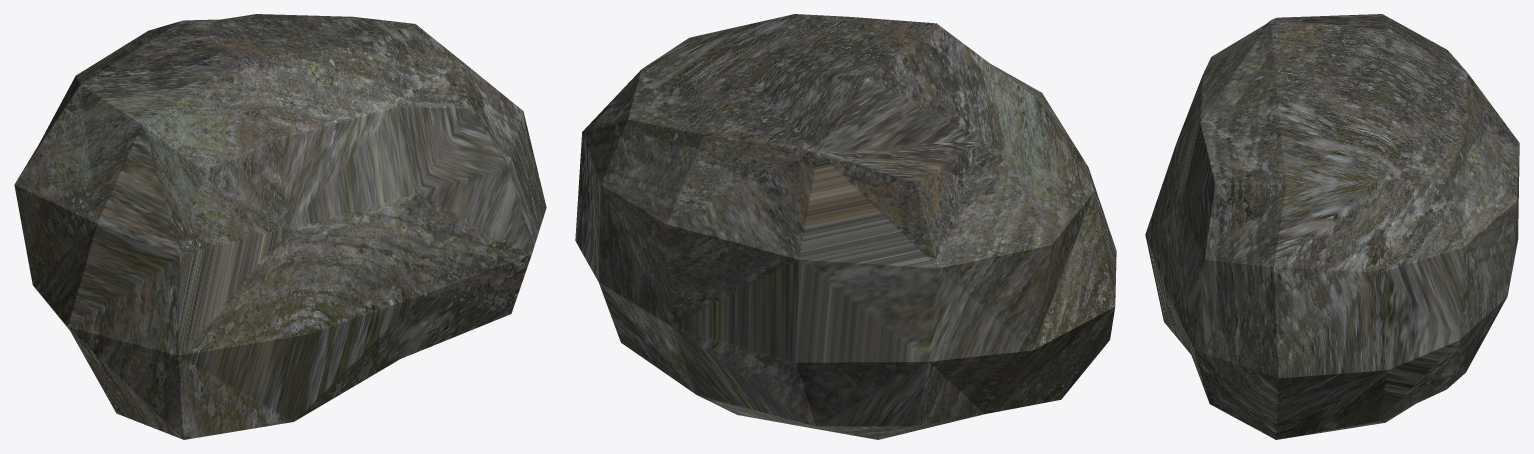
Rendered from rock_01.obj.
3 renders of one model, left to right at view 1: azimuth 30°, elevation 25°; view 2: azimuth 150°, elevation 25°; view 3: azimuth 270°, elevation 25°, orthographic. The views are drawn at different scales.
Parts seen in each view (by area): view 1: rock; view 2: rock; view 3: rock.
Boxes of the visible parts, <box> form: rock: <box>14,14,546,439</box>; rock: <box>575,14,1116,439</box>; rock: <box>1145,14,1519,439</box>.
Bounding box in the file's own units: 1 × 0.7176 × 0.7109.
1 material, 1 textured.
